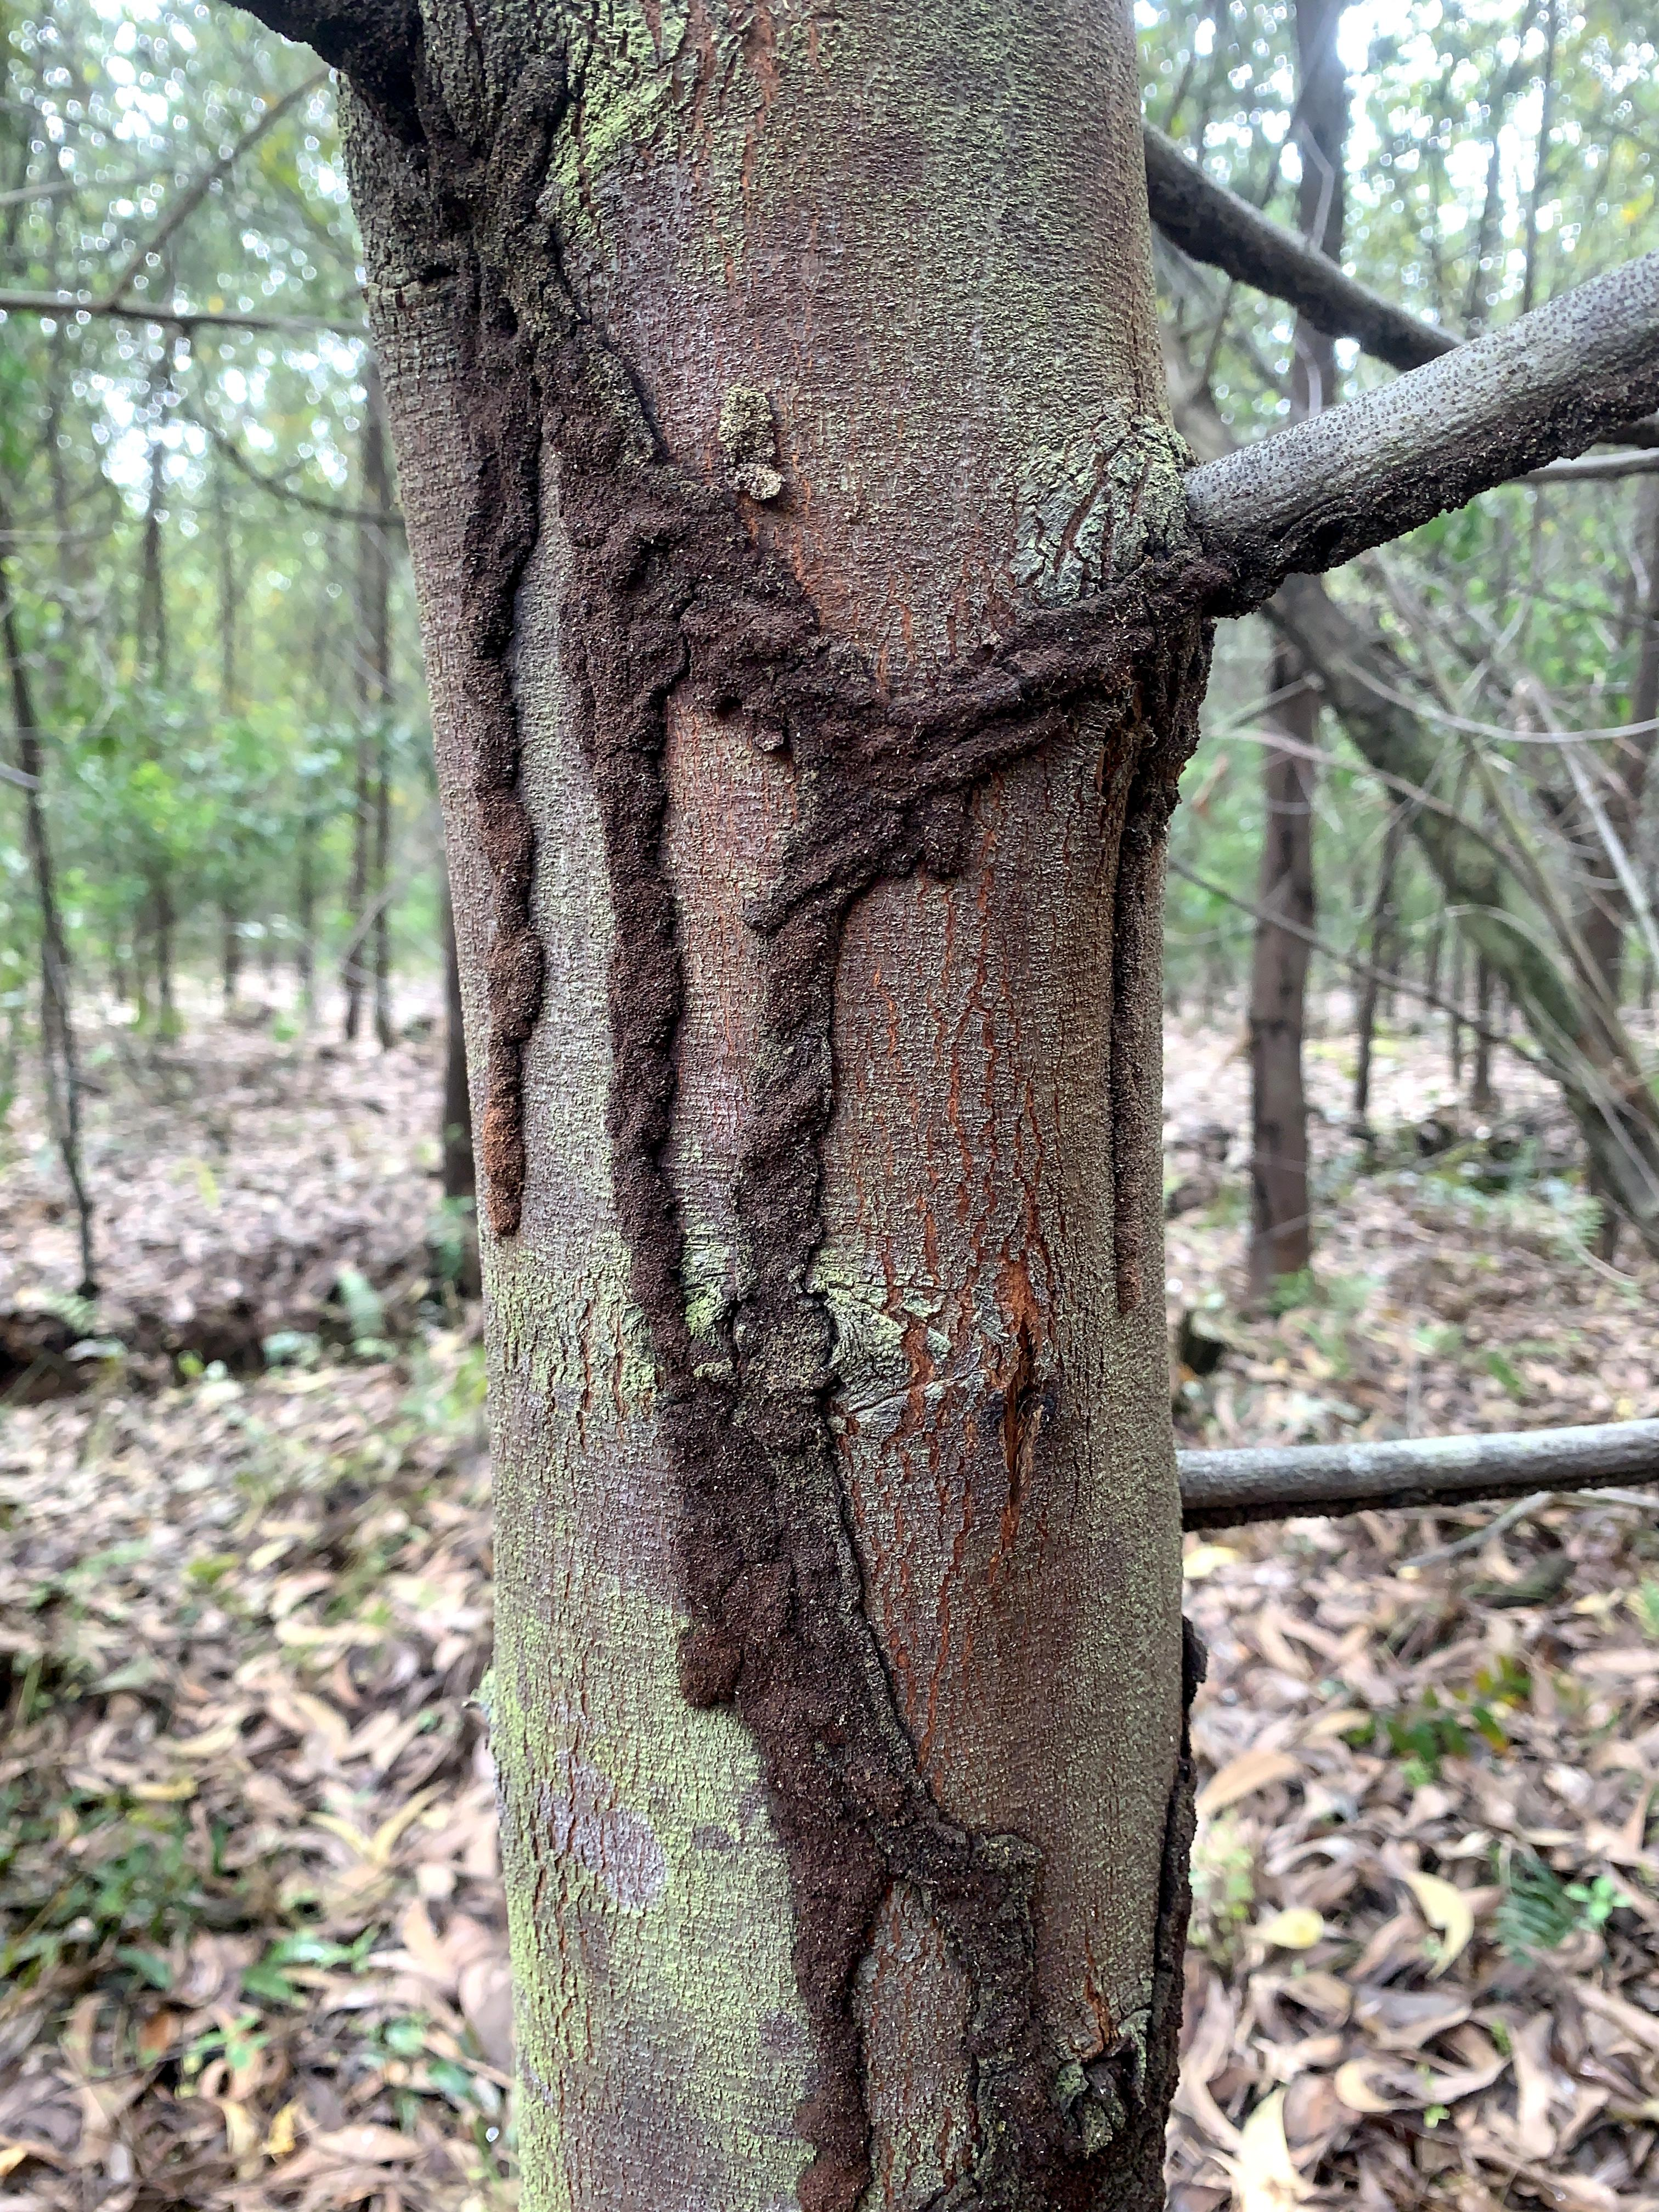Termite - Nest: (314, 40, 1227, 2212)
